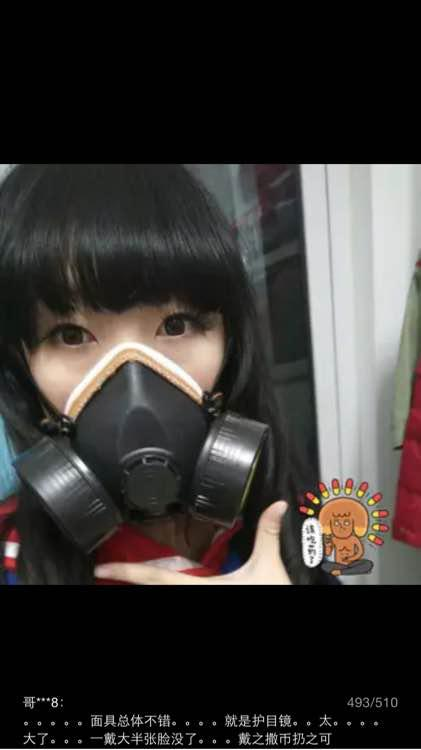OK: (30, 272, 231, 473)
